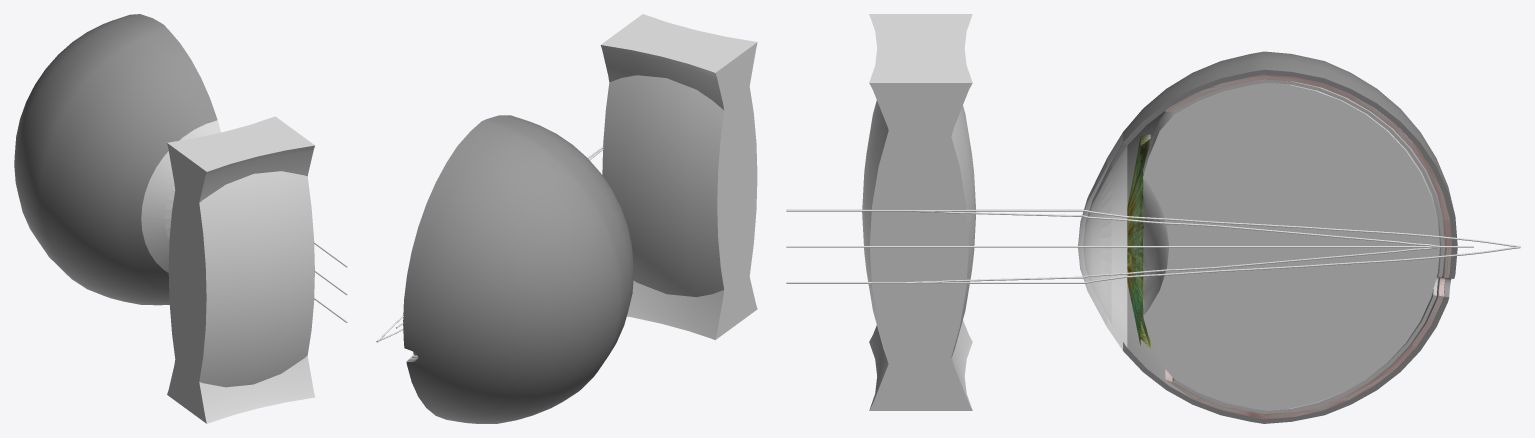
The model's file is HyperopiaEye.FBX.
3 views of the same model, side by side, from view 1: azimuth 30°, elevation 25°; view 2: azimuth 150°, elevation 25°; view 3: azimuth 270°, elevation 25° (orthographic). The views are drawn at different scales.
Parts seen in each view (by area): view 1: bSclera, cCorrectiveLens2, cCorrectiveLens, bCornea; view 2: bSclera, cCorrectiveLens2, cCorrectiveLens; view 3: bCorpusVitreum, cCorrectiveLens2, cCorrectiveLens, bSclera, bCornea, bChoroidea, bRetina, bIris, cBefore5, cBefore6, cBefore1, cAfter6 (+1 smaller).
Part boxes in pixels (x1,y1,x2,y2): bSclera: [14, 14, 217, 305]; cCorrectiveLens2: [168, 128, 314, 412]; cCorrectiveLens: [167, 116, 315, 423]; bCornea: [141, 120, 220, 272]; bSclera: [403, 115, 633, 423]; cCorrectiveLens2: [602, 26, 757, 323]; cCorrectiveLens: [600, 14, 757, 339]; bCorpusVitreum: [1143, 83, 1439, 410]; cCorrectiveLens2: [862, 14, 975, 410]; cCorrectiveLens: [869, 14, 972, 410]; bSclera: [1123, 51, 1457, 423]; bCornea: [1078, 132, 1127, 350]; bChoroidea: [1165, 74, 1451, 418]; bRetina: [1172, 79, 1444, 413]; bIris: [1127, 134, 1150, 348]; cBefore5: [786, 209, 1520, 246]; cBefore6: [786, 246, 1520, 283]; cBefore1: [786, 246, 1473, 247]; cAfter6: [786, 247, 1439, 282].
Size of the model in its own units: 0.4336 by 0.8504 by 1.6.
